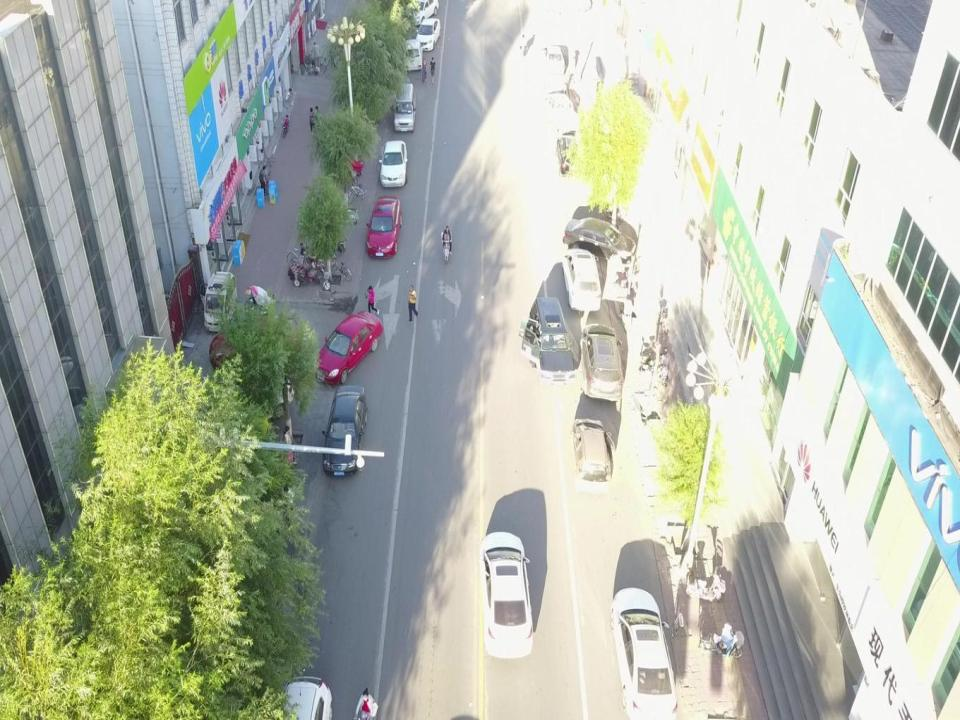car: (611, 585, 680, 720), (480, 533, 534, 658), (314, 311, 382, 384), (524, 294, 575, 386), (322, 382, 369, 477), (562, 216, 637, 264), (571, 416, 616, 494), (580, 322, 624, 400), (561, 248, 602, 312), (276, 676, 334, 720), (366, 195, 402, 258), (377, 138, 408, 188), (543, 92, 579, 132), (556, 130, 584, 179), (415, 18, 441, 51), (540, 44, 565, 76), (408, 0, 439, 24)
van: (394, 83, 416, 133), (404, 40, 424, 71)
